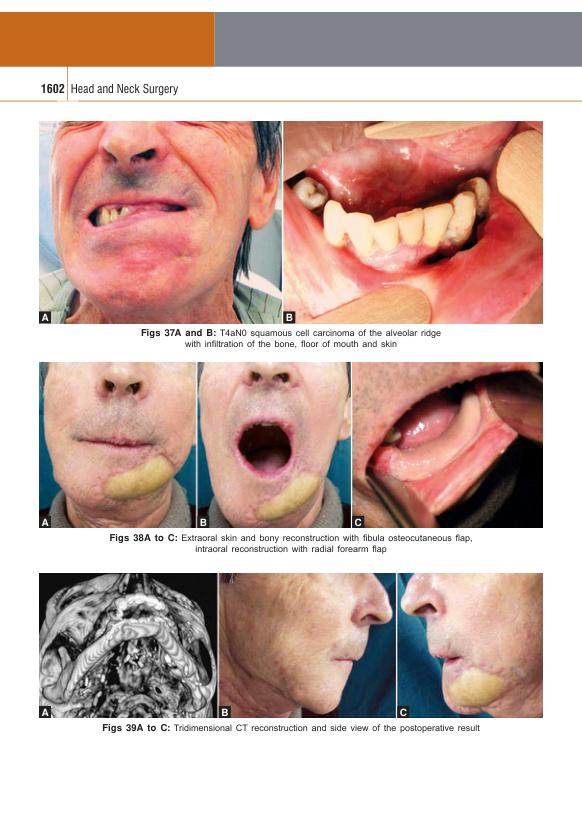caption: (108, 532, 474, 555), (140, 327, 443, 350), (101, 722, 482, 735), (40, 516, 51, 528), (220, 705, 230, 718), (40, 312, 51, 323), (284, 312, 295, 323), (39, 707, 50, 718), (399, 706, 409, 718), (354, 516, 363, 528), (199, 517, 208, 528)
header: (70, 82, 180, 97)
image: (283, 121, 543, 324), (39, 121, 281, 324), (353, 362, 544, 528), (39, 361, 196, 528), (218, 572, 397, 718), (39, 573, 217, 717), (197, 362, 352, 527), (399, 573, 542, 718)
